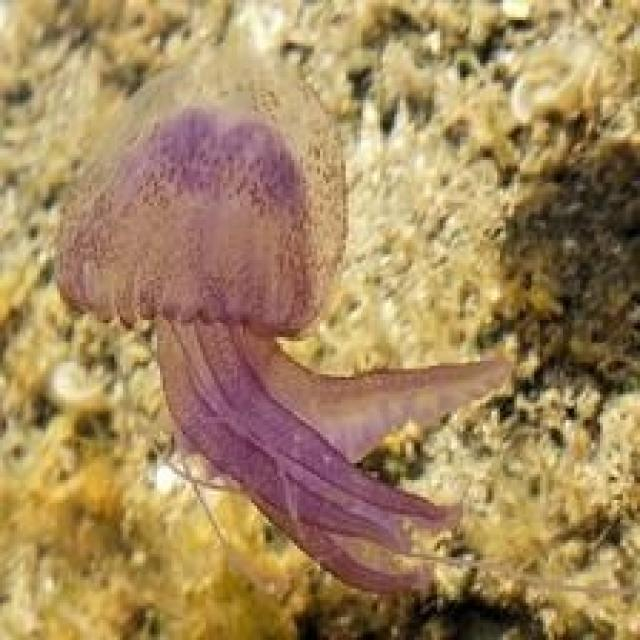Moon-jellyfish: (49, 37, 514, 597)
